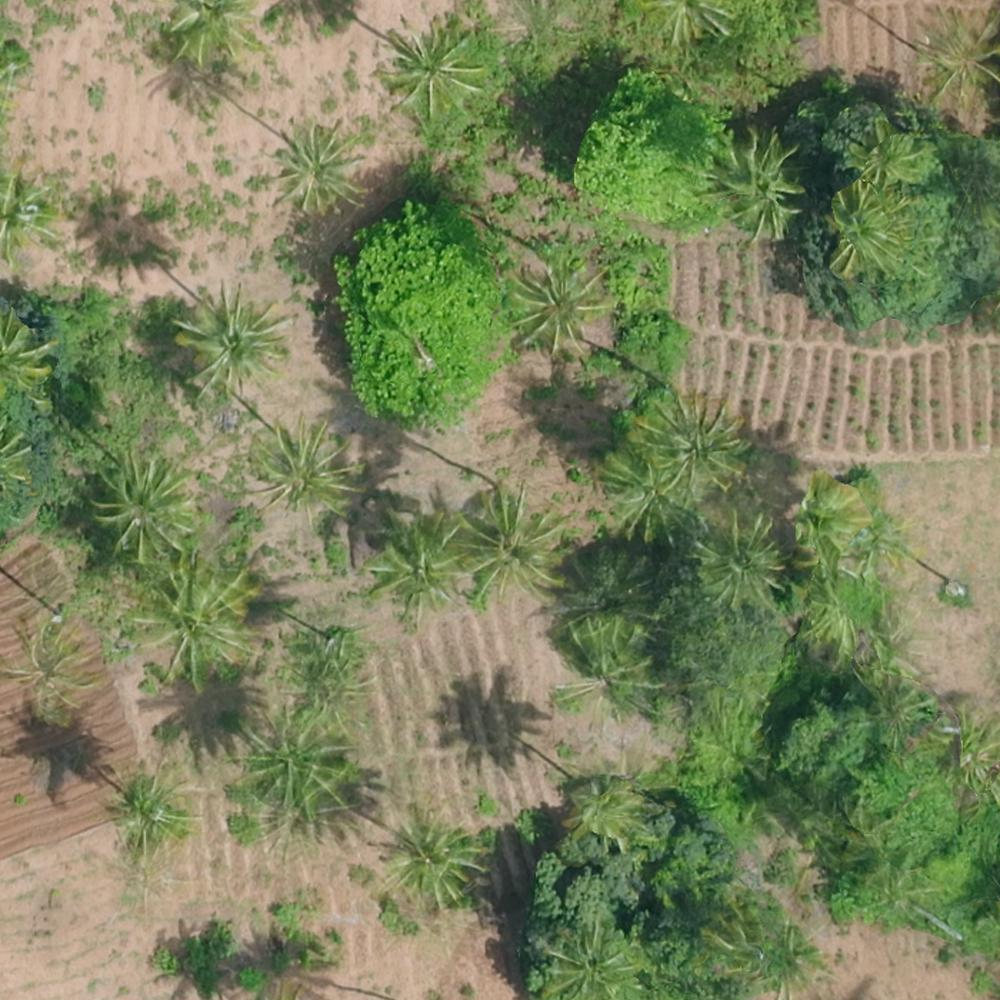Palm: (174, 288, 282, 397), (137, 573, 242, 677), (91, 455, 185, 564), (643, 391, 745, 490), (462, 490, 553, 594), (253, 423, 351, 519), (708, 126, 797, 230), (380, 27, 481, 112), (600, 442, 695, 532), (388, 813, 481, 899), (695, 516, 784, 605), (509, 261, 597, 351), (538, 927, 644, 999), (371, 525, 457, 608), (275, 126, 357, 212), (833, 186, 907, 269), (111, 783, 183, 856)
